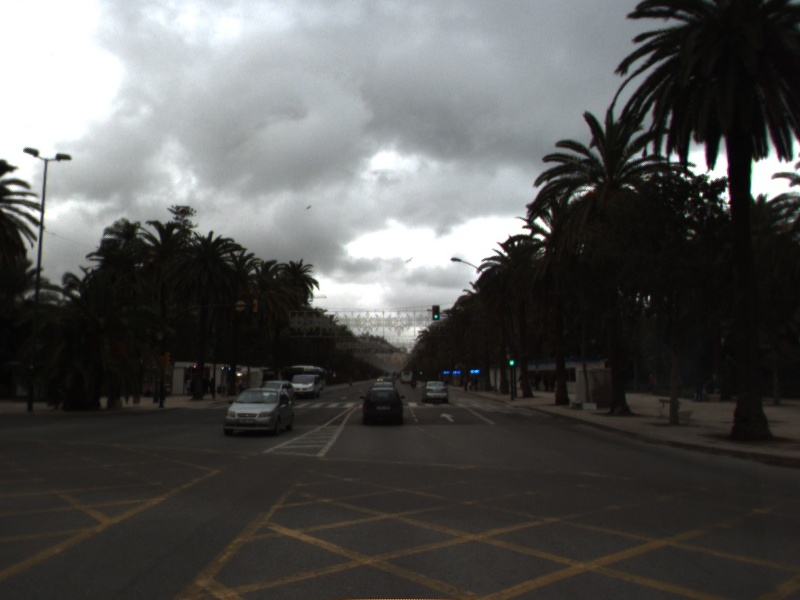STRAIGHT: (437, 410, 458, 424)
